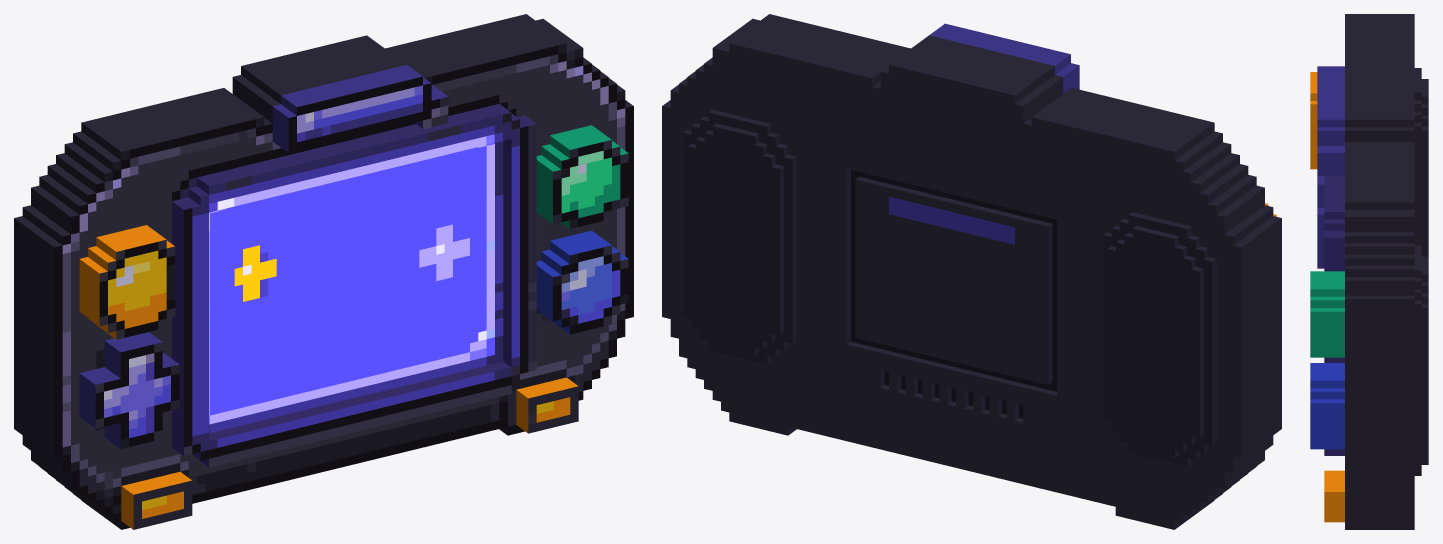
Rendered from gotty_handheld.glb.
3 views of the same model, side by side, from view 1: azimuth 30°, elevation 25°; view 2: azimuth 150°, elevation 25°; view 3: azimuth 270°, elevation 25° (orthographic). The views are drawn at different scales.
Visible parts, largest first — view 1: screen, body, shoulder, button_yellow, dpad, button_green, button_blue, light_left, light_right; view 2: body, shoulder; view 3: body, shoulder, button_blue, button_green, screen, light_right, button_yellow, dpad.
Part boxes in pixels (x1,y1,x2,y2): screen: (172, 103, 536, 467); body: (14, 14, 633, 529); shoulder: (272, 65, 448, 152); button_yellow: (79, 225, 175, 339); dpad: (79, 332, 179, 448); button_green: (536, 125, 628, 228); button_blue: (536, 230, 628, 334); light_left: (121, 471, 192, 529); light_right: (516, 377, 578, 433); body: (662, 14, 1281, 529); shoulder: (929, 23, 1079, 93); body: (1345, 14, 1428, 529); shoulder: (1317, 66, 1344, 175); button_blue: (1310, 363, 1344, 449); button_green: (1310, 271, 1344, 357); screen: (1324, 176, 1344, 455); light_right: (1324, 470, 1344, 522); button_yellow: (1310, 72, 1317, 169); dpad: (1317, 176, 1324, 268).
Size of the model in its own units: 1 by 0.6522 by 0.204.
2 materials, 2 textured.
